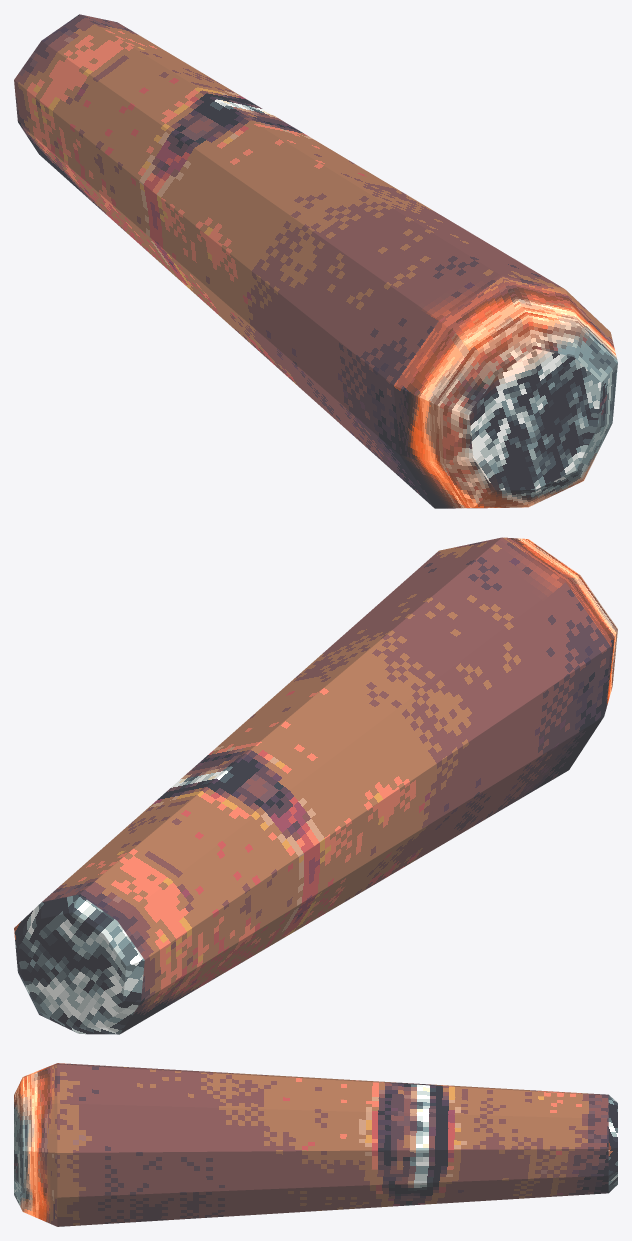
Rendered from cigar_lowpoly_ps1.glb.
3 views of the same model, one above another, from view 1: azimuth 30°, elevation 25°; view 2: azimuth 150°, elevation 25°; view 3: azimuth 270°, elevation 25° (orthographic). The views are drawn at different scales.
Parts seen in each view (by area): view 1: Cylinder; view 2: Cylinder; view 3: Cylinder.
Boxes of the visible parts, box(x1,y1,x2,y2) form: Cylinder: box(14, 14, 617, 508); Cylinder: box(14, 537, 617, 1034); Cylinder: box(14, 1063, 617, 1226).
Size of the model in its own units: 1.02 by 1.05 by 3.78.
1 material, 1 textured.
